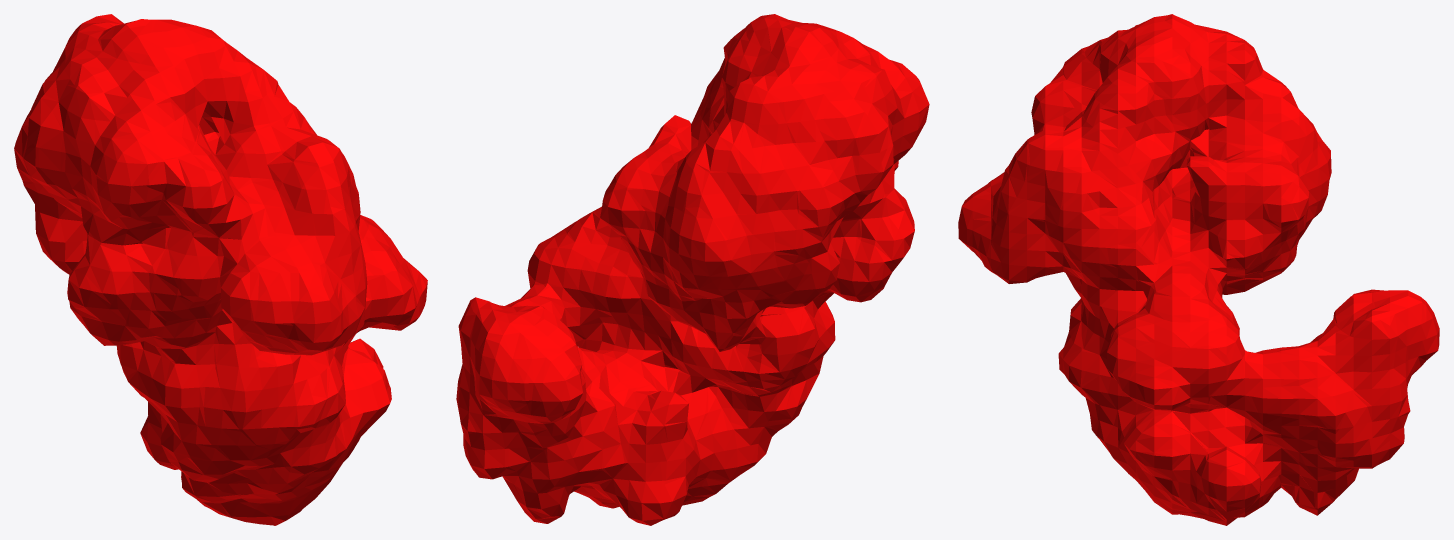
Rendered from rep_coarse.dae.
3 views of the same model, side by side, from view 1: azimuth 30°, elevation 25°; view 2: azimuth 150°, elevation 25°; view 3: azimuth 270°, elevation 25° (orthographic). The views are drawn at different scales.
Visible parts, largest first — view 1: rep; view 2: rep; view 3: rep.
Part boxes in pixels (bbox=[...]): rep: bbox=[14, 14, 427, 525]; rep: bbox=[456, 14, 929, 525]; rep: bbox=[958, 14, 1439, 525].
Bounding box in the file's own units: 86.98 × 117 × 116.
